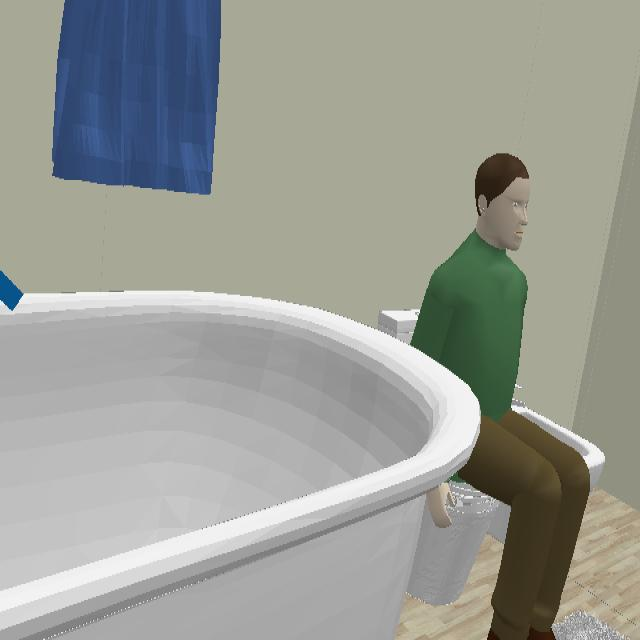bathtube: (0, 291, 481, 640)
person: (411, 153, 592, 640)
toilet: (407, 481, 511, 609), (378, 309, 420, 344)
washbasin: (517, 409, 607, 489)
